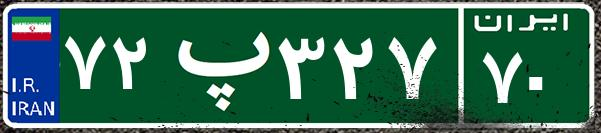0: (525, 38, 570, 115)
2: (330, 28, 385, 110), (110, 28, 158, 105)
3: (273, 28, 330, 110)
7: (385, 28, 445, 110), (57, 26, 110, 107), (475, 38, 525, 113)
پ: (158, 15, 273, 115)
